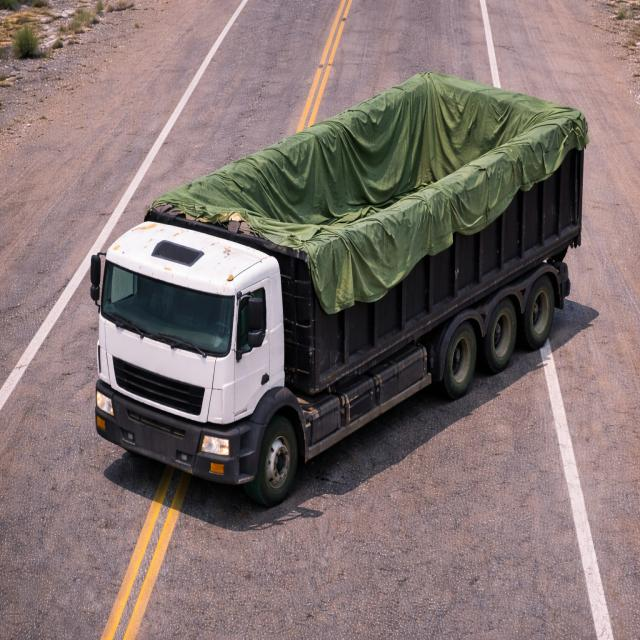trailer: (157, 69, 581, 251)
truck: (84, 59, 588, 500)
